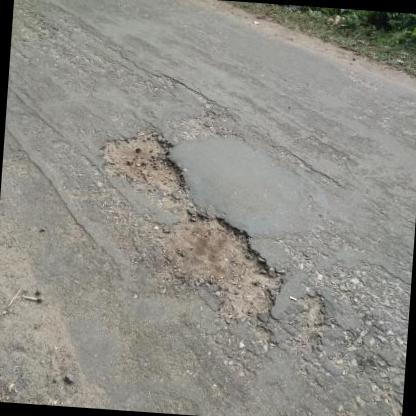pothole: (149, 209, 287, 320), (92, 124, 196, 201), (294, 293, 329, 330)
